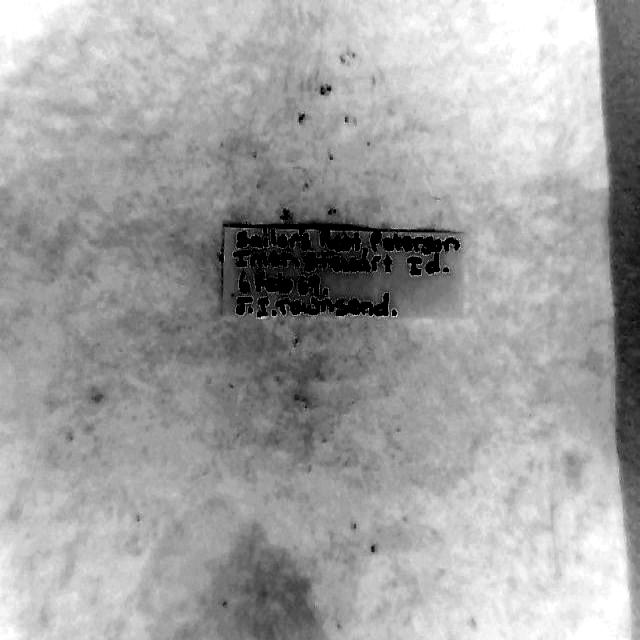hand_label: (224, 225, 462, 318)
